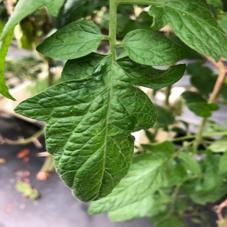Healthy: (15, 53, 157, 202), (38, 18, 101, 60), (123, 26, 186, 66)
